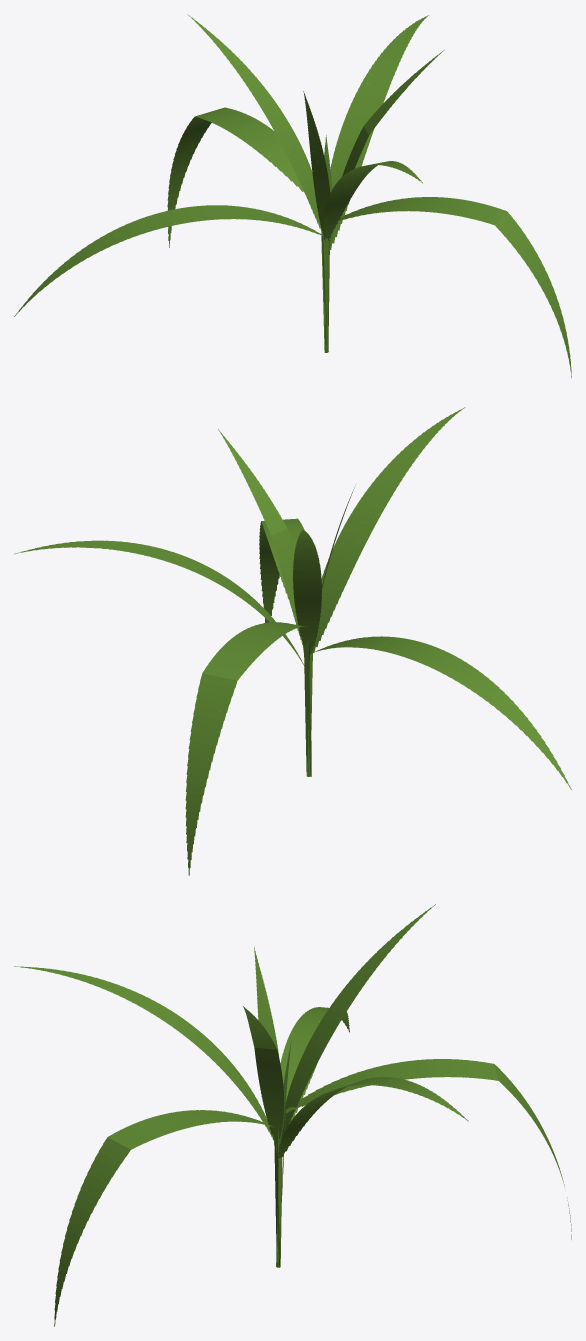
Rendered from maize_004_day_070.dae.
3 renders of one model, top to bottom at view 1: azimuth 30°, elevation 25°; view 2: azimuth 150°, elevation 25°; view 3: azimuth 270°, elevation 25°, orthographic. The views are drawn at different scales.
Visible parts, largest first — view 1: node; view 2: node; view 3: node.
Part boxes in pixels (x1=…): node: x1=14, y1=14, x2=571, y2=378; node: x1=14, y1=407, x2=571, y2=875; node: x1=14, y1=904, x2=571, y2=1326.
Bounding box in the file's own units: 1.04 × 0.6347 × 0.9797.
Materials: 1 (1 with a texture image).
